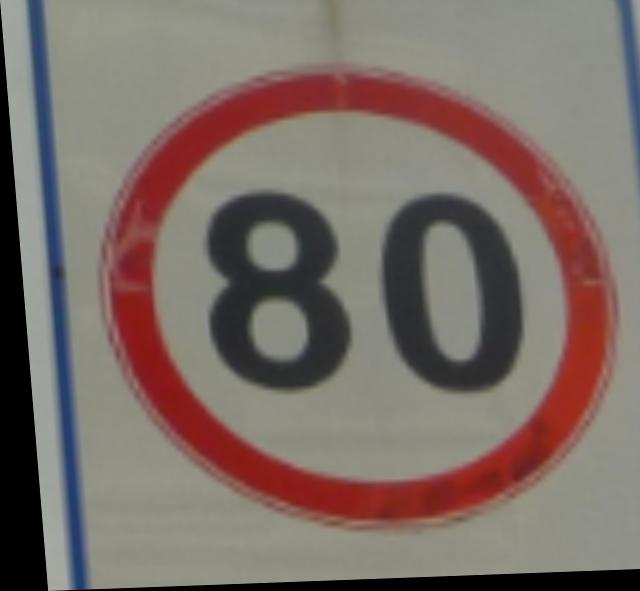limit80: (71, 47, 640, 554)
